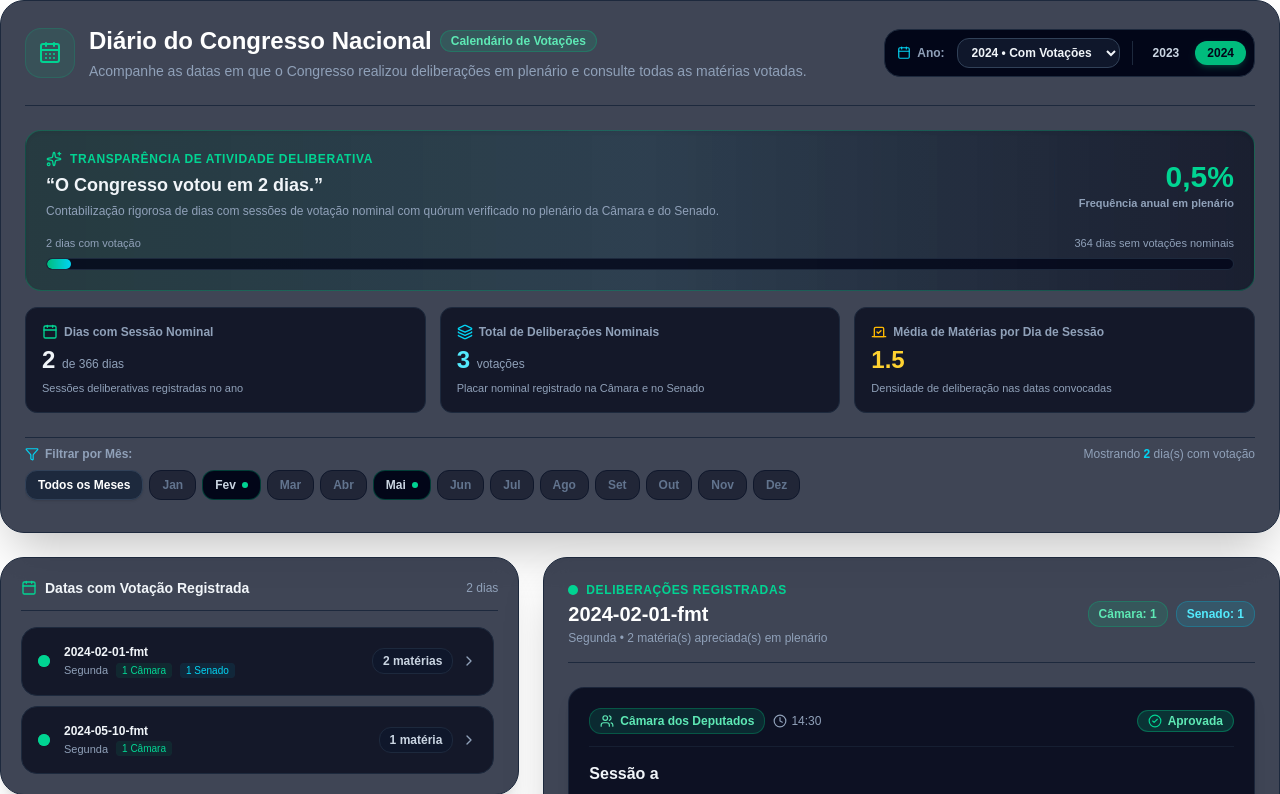
Test case: VotingCalendarPanel › falha ao trocar de ano não mostra os dias do ano anterior e mantém o seletor
The width and height of the screenshot is (1280, 794).
Expected: the heading "Sessão a" is shown, 589,765 -> 659,782
What coordinates should you click on to do the following:
click the button "2023"
I would click on:
 (1166, 53)
Its box is 1141,41 -> 1191,65.
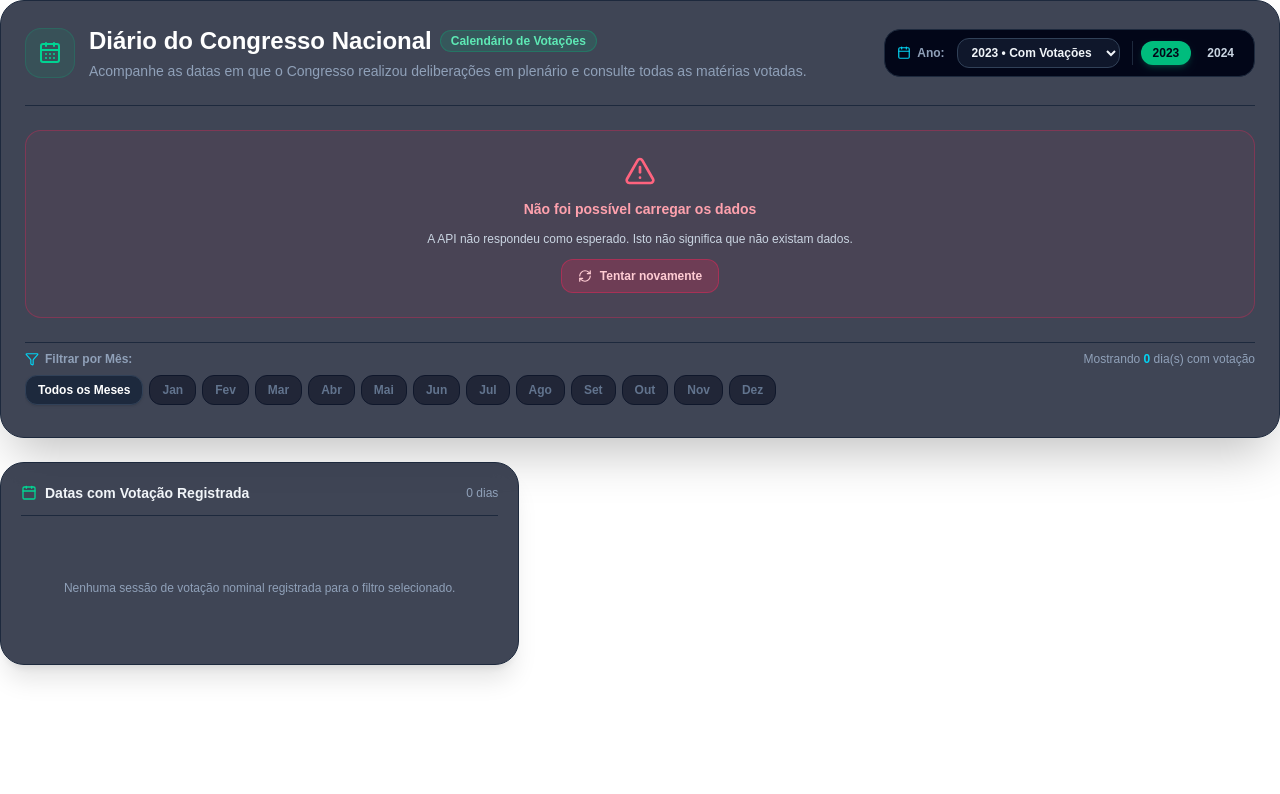
Expected: the button "2024" is shown, 1195,41 -> 1246,65
Expected: the message that starts with "Não foi possível carregar os dados" is shown, 25,130 -> 1255,318
Expected: the heading "Sessão a" is gone
